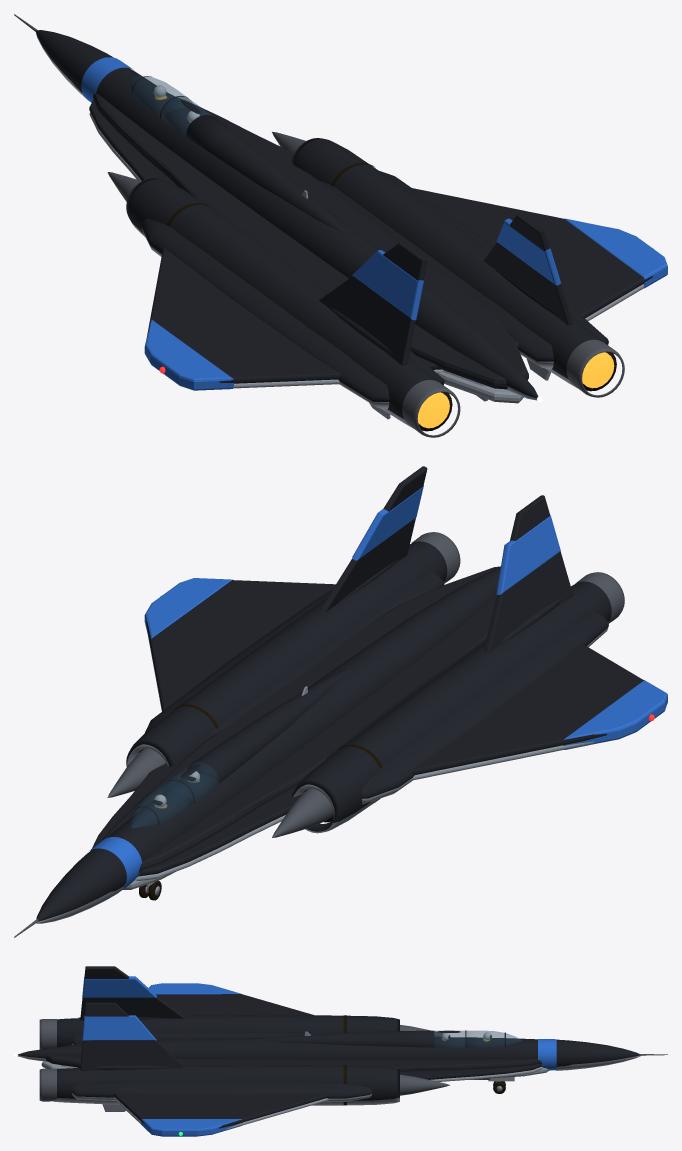
3 views of the same model, one above another, from view 1: azimuth 30°, elevation 25°; view 2: azimuth 150°, elevation 25°; view 3: azimuth 270°, elevation 25° (orthographic). The views are drawn at different scales.
Visible parts, largest first — view 1: wing_chine_upper, fuselage, chine_blend_upper, nacelle_shell_L, nacelle_shell_R, nacelle_fillet_L, fin_surface_L, cockpit_spine_hump, nacelle_fillet_R, livery_wingtip_L, fin_surface_R, livery_wingtip_R (+12 smaller); view 2: wing_chine_upper, fuselage, chine_blend_upper, nacelle_shell_L, nacelle_shell_R, nacelle_fillet_L, fin_surface_L, cockpit_spine_hump, nacelle_fillet_R, radome, fin_surface_R, livery_wingtip_L (+11 smaller); view 3: wing_chine_upper, fuselage, nacelle_shell_R, nacelle_shell_L, nacelle_fillet_R, chine_blend_upper, fin_surface_R, cockpit_spine_hump, fin_surface_L, livery_fin_band_R, radome, livery_wingtip_R (+15 smaller).
Part boxes in pixels (bbox=[...]): wing_chine_upper: bbox=[89, 98, 652, 383]; fuselage: bbox=[96, 67, 538, 398]; chine_blend_upper: bbox=[93, 93, 528, 389]; nacelle_shell_L: bbox=[126, 178, 438, 418]; nacelle_shell_R: bbox=[291, 138, 602, 378]; nacelle_fillet_L: bbox=[141, 213, 444, 401]; fin_surface_L: bbox=[319, 242, 427, 365]; cockpit_spine_hump: bbox=[186, 115, 349, 235]; nacelle_fillet_R: bbox=[318, 171, 608, 361]; livery_wingtip_L: bbox=[144, 319, 233, 390]; fin_surface_R: bbox=[484, 213, 573, 325]; livery_wingtip_R: bbox=[564, 218, 667, 288]; wing_chine_upper: bbox=[91, 580, 643, 876]; fuselage: bbox=[93, 566, 500, 883]; chine_blend_upper: bbox=[99, 566, 498, 872]; nacelle_shell_L: bbox=[291, 581, 611, 831]; nacelle_shell_R: bbox=[126, 541, 447, 766]; nacelle_fillet_L: bbox=[325, 611, 608, 798]; fin_surface_L: bbox=[484, 495, 573, 653]; cockpit_spine_hump: bbox=[187, 668, 349, 783]; nacelle_fillet_R: bbox=[145, 571, 444, 741]; radome: bbox=[36, 849, 126, 921]; fin_surface_R: bbox=[319, 466, 427, 612]; livery_wingtip_L: bbox=[563, 680, 667, 749]; wing_chine_upper: bbox=[113, 994, 542, 1128]; fuselage: bbox=[18, 1037, 537, 1059]; nacelle_shell_R: bbox=[57, 1065, 399, 1100]; nacelle_shell_L: bbox=[57, 1015, 399, 1047]; nacelle_fillet_R: bbox=[71, 1083, 372, 1098]; chine_blend_upper: bbox=[46, 1036, 541, 1071]; fin_surface_R: bbox=[80, 1002, 185, 1070]; cockpit_spine_hump: bbox=[252, 1030, 434, 1047]; fin_surface_L: bbox=[80, 966, 184, 1020]; livery_fin_band_R: bbox=[82, 1015, 156, 1040]; radome: bbox=[556, 1039, 639, 1066]; livery_wingtip_R: bbox=[141, 1119, 242, 1136].
Bounding box in the file's own units: 17.46 × 5.85 × 32.22.
